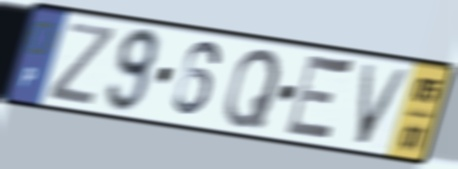6: (170, 39, 225, 123)
9: (102, 25, 160, 117)
E: (280, 49, 359, 147)
Q: (221, 46, 285, 130)
V: (354, 60, 414, 148)
Z: (44, 19, 119, 108)
